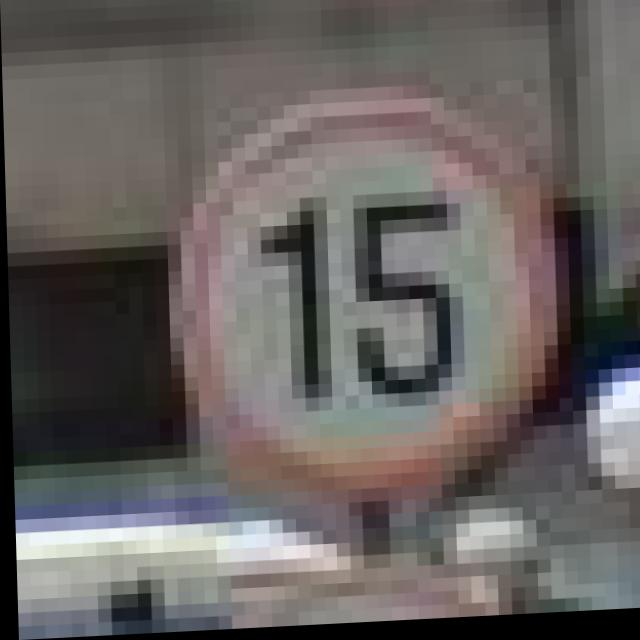SPEED_LIMIT_15: (155, 73, 572, 530)
